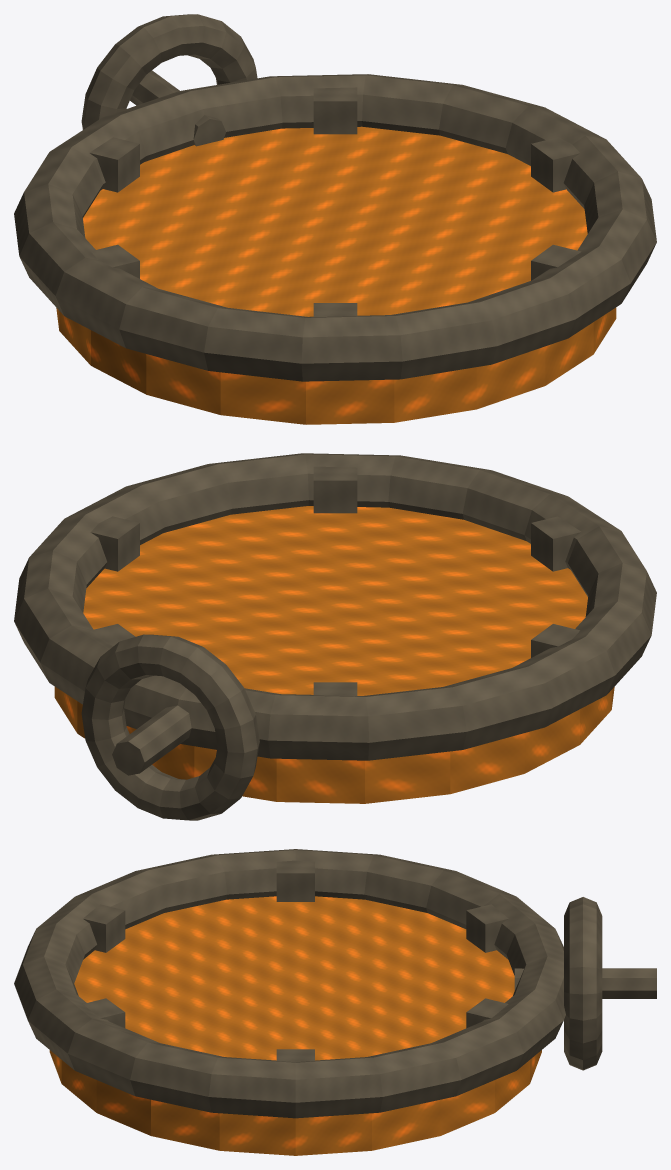
File: underworld-refined-carrion-amber-seal.glb
The picture shows the model from 3 angles, top to bottom: view 1: azimuth 30°, elevation 25°; view 2: azimuth 150°, elevation 25°; view 3: azimuth 270°, elevation 25°; orthographic projection. The views are drawn at different scales.
Parts seen in each view (by area): view 1: seal-core, seal-rim, suspension-ring, tooth-1, tooth-2, tooth-0, seal-pin, tooth-3, tooth-5, tooth-4; view 2: seal-core, seal-rim, suspension-ring, seal-pin, tooth-5, tooth-4, tooth-0, tooth-3, tooth-2, tooth-1; view 3: seal-core, seal-rim, suspension-ring, seal-pin, tooth-3, tooth-4, tooth-2, tooth-5, tooth-1, tooth-0.
Part boxes in pixels (x1,y1,x2,y2): seal-core: (56,126,616,424); seal-rim: (14,74,656,381); suspension-ring: (81,14,257,129); tooth-1: (313,87,357,134); tooth-2: (89,137,139,192); tooth-0: (531,137,579,192); seal-pin: (130,70,225,146); tooth-3: (91,244,139,278); tooth-5: (531,244,581,280); tooth-4: (313,303,357,316); seal-core: (54,506,614,803); seal-rim: (14,453,656,760); suspension-ring: (81,634,259,820); seal-pin: (112,705,191,775); tooth-5: (313,466,357,513); tooth-4: (531,516,581,571); tooth-0: (90,516,139,571); tooth-3: (531,624,579,657); tooth-2: (313,682,357,696); tooth-1: (89,624,135,646); seal-core: (49,896,541,1155); seal-rim: (14,849,565,1118); suspension-ring: (564,897,602,1070); seal-pin: (514,968,656,998); tooth-3: (276,860,314,901); tooth-4: (83,904,125,952); tooth-2: (466,904,508,952); tooth-5: (83,998,125,1027); tooth-1: (466,998,508,1028); tooth-0: (276,1049,314,1061).
Size of the model in its own units: 0.206 by 0.064 by 0.235.
Materials: 2 (2 with a texture image).
